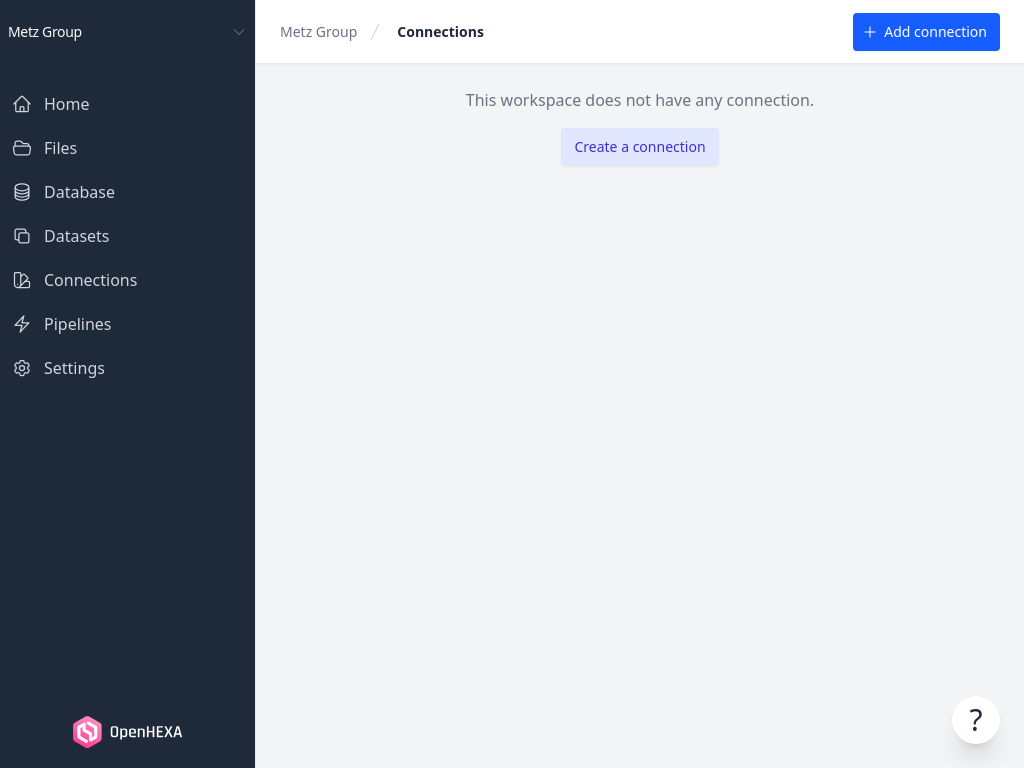
Test: Connections › opens the connection creation dialog on click
This screenshot has width=1024, height=768.
Click the button "Add connection" at (927, 32), box [853,12,1000,50]
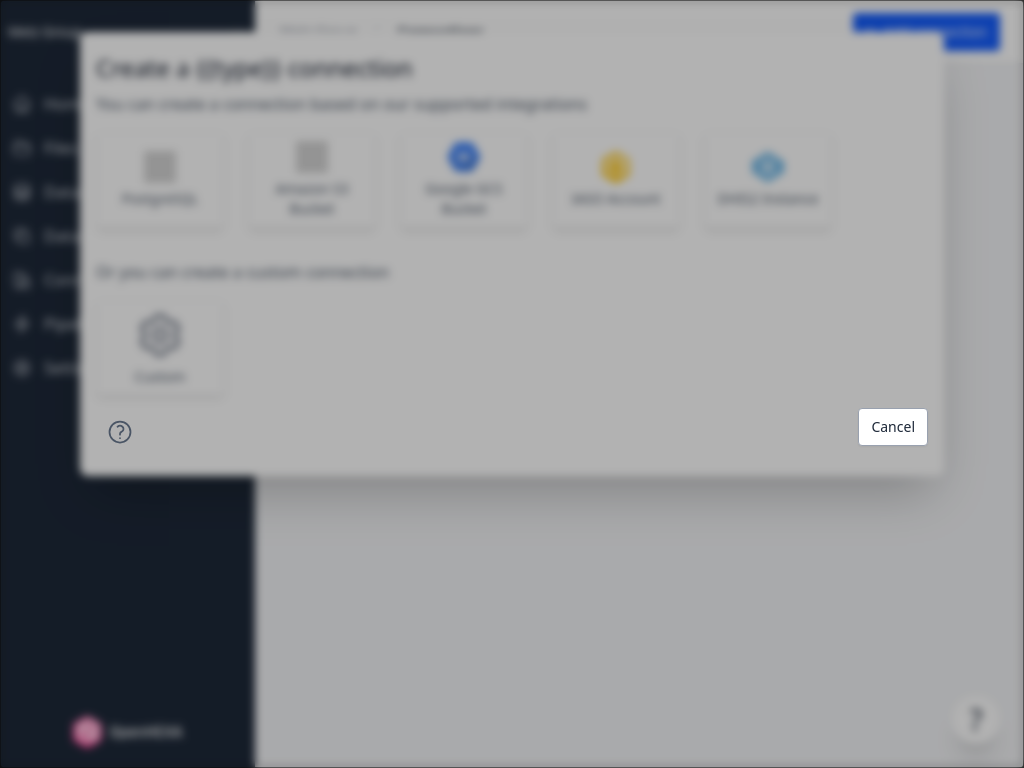
Now the dialog is shown
Now the text "You can create a connection based on our supported integrations" is shown, box [96,93,587,115]
